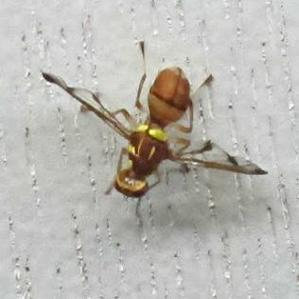melon fly: (31, 33, 277, 249)
